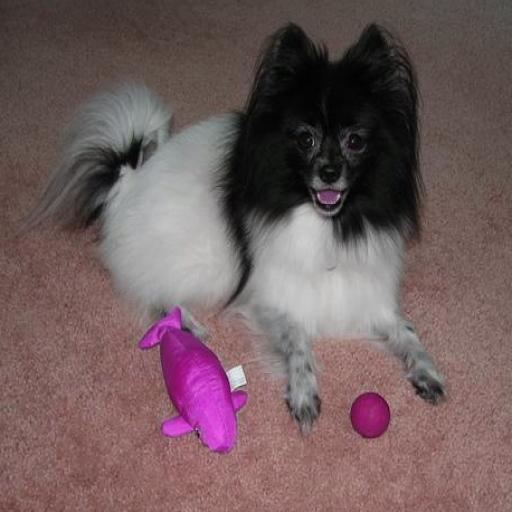dog_face: (250, 25, 411, 226)
